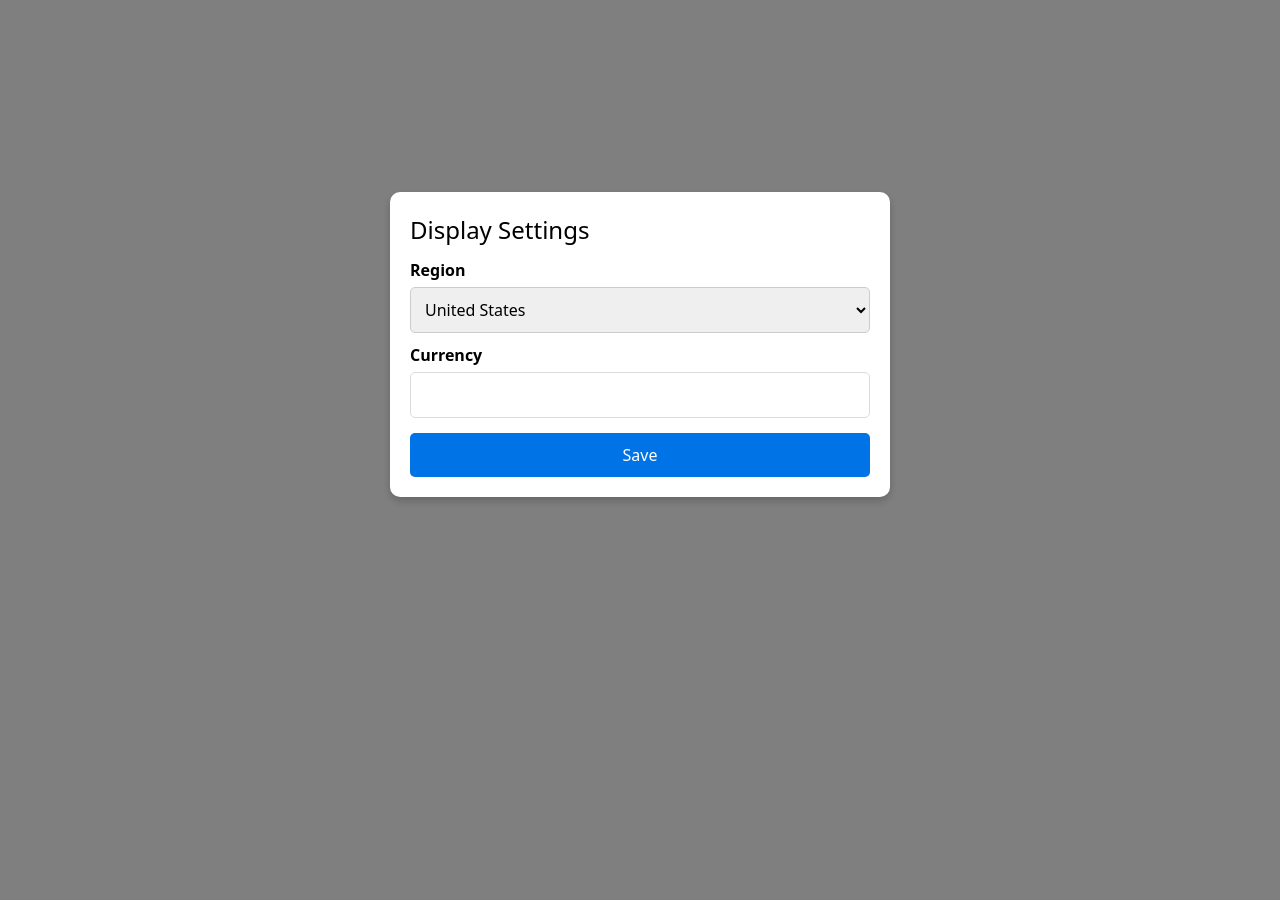
Test case: RegionModal Component › updates currency when a region is selected
Step 1. Select "United Kingdom" in the dropdown labelled "Region" → (640, 310), box [410, 287, 870, 333]
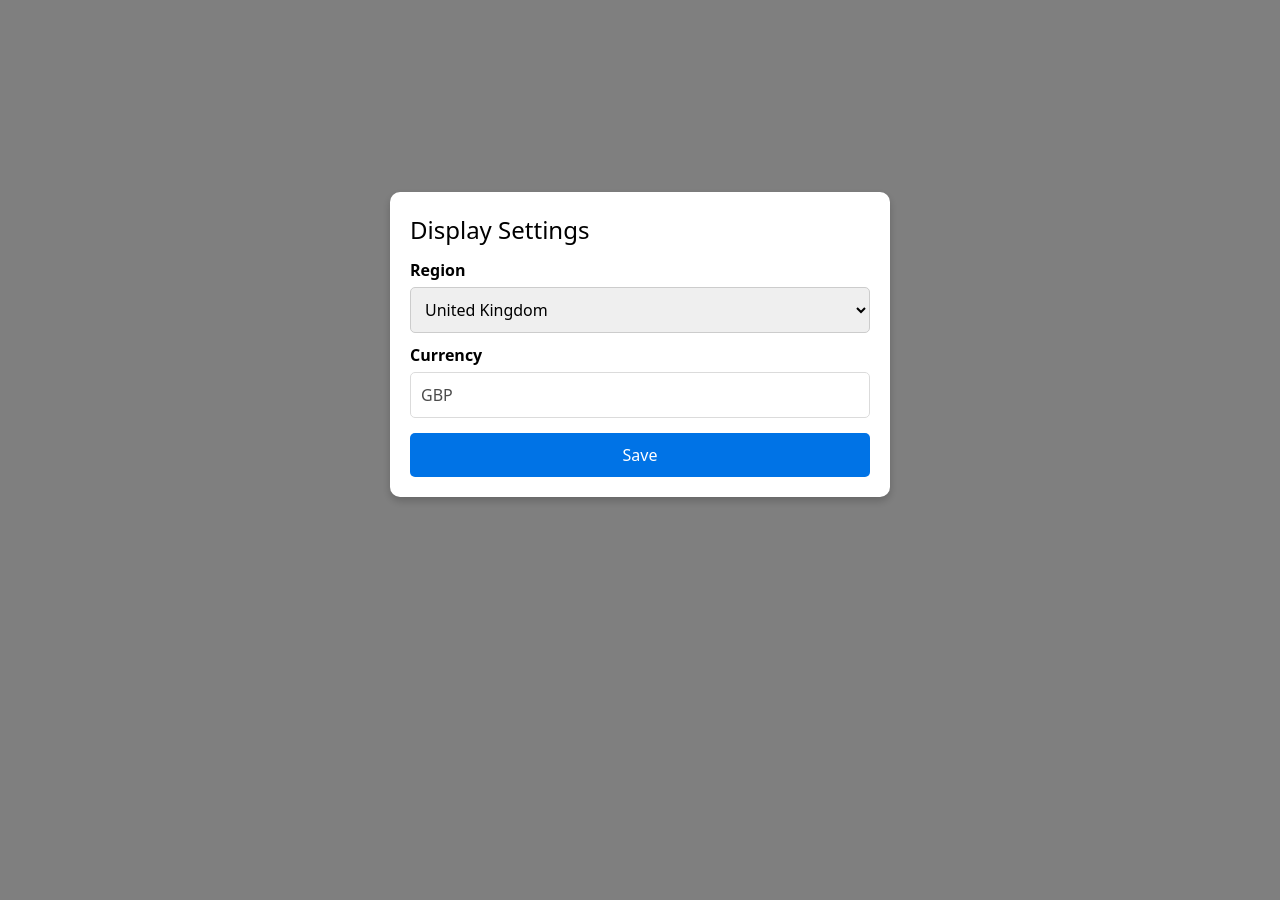
Check: the field labelled "Currency" holds "GBP", box [410, 372, 870, 418]
